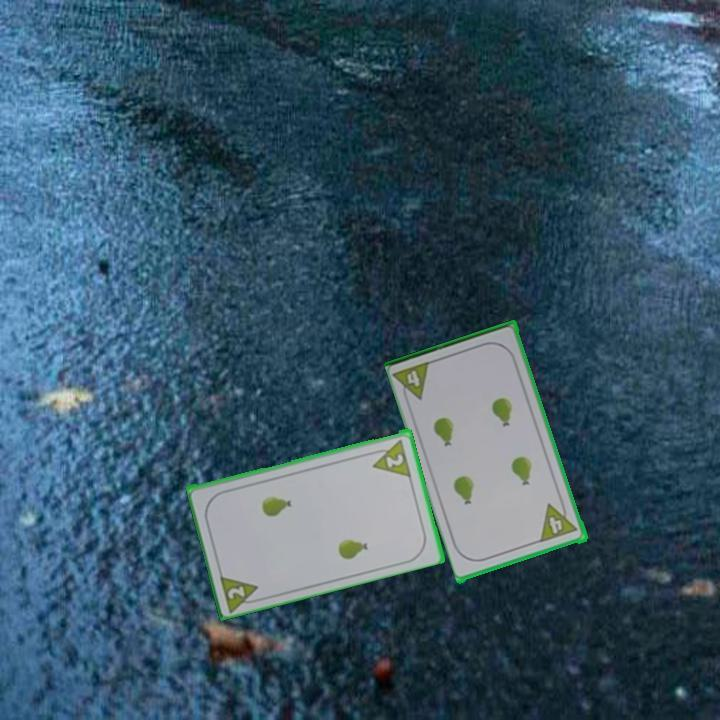2p: (366, 434, 414, 479), (216, 569, 265, 613)
4p: (391, 358, 435, 407), (537, 497, 581, 545)
